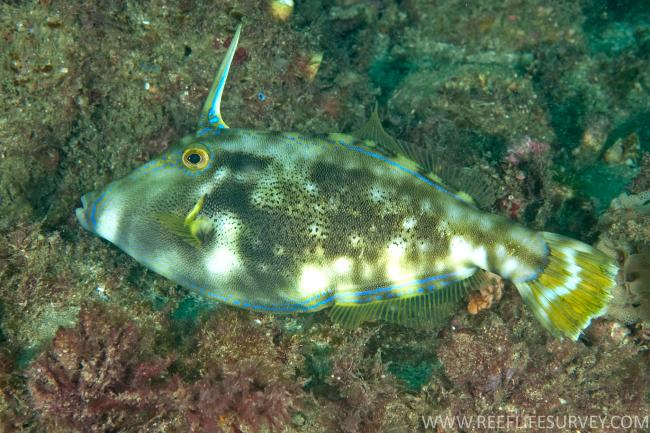fish: (76, 22, 619, 344)
